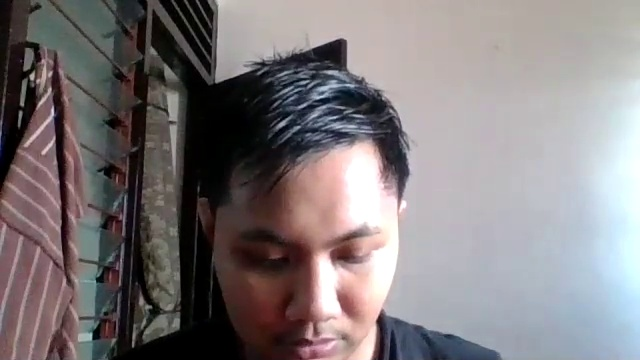Distracted: (199, 102, 412, 360)
